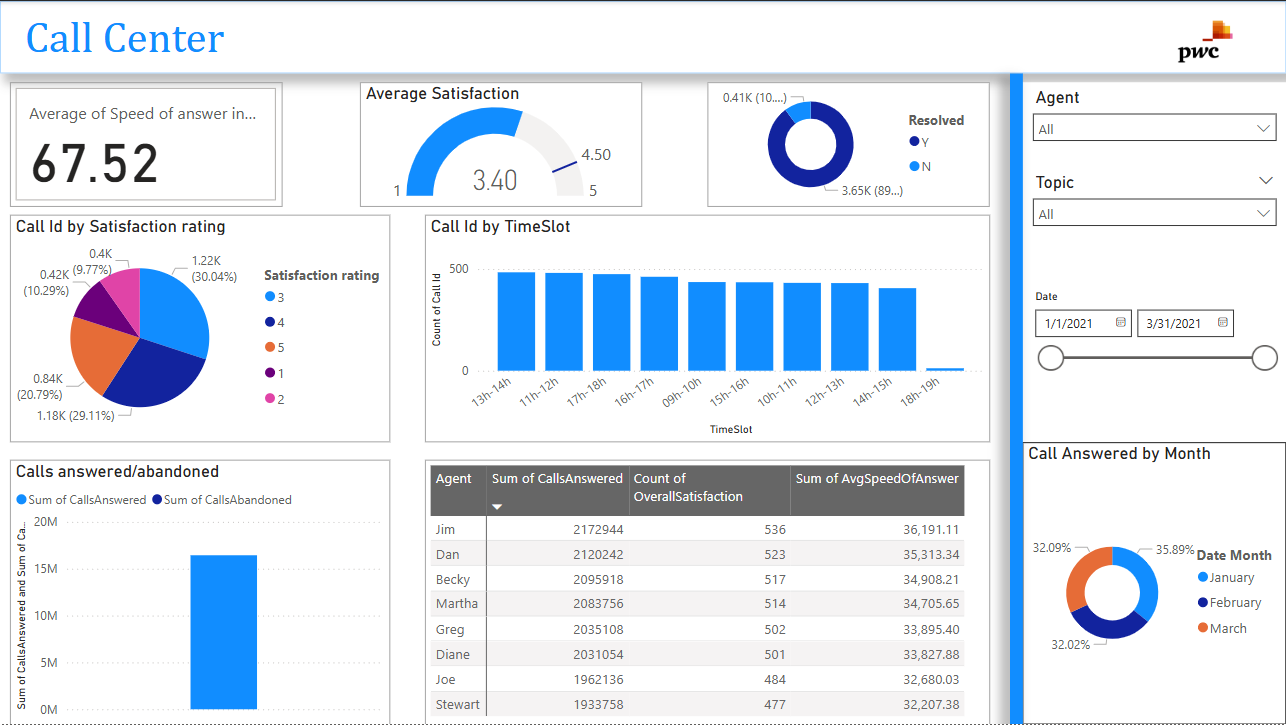

What the dashboard file says about the page in this screenshot:
{"tool":"powerbi","page":{"name":"Page 1","canvas":[1280,720],"ordinal":0},"visuals":[{"type":"pieChart","title":"Call Id by Satisfaction rating","fields":{"Category":["1 Call-center-dataset.Satisfaction rating"],"Y":["1 Call-center-dataset.Call Id"]},"box":[10,212.7,378.2,226.4],"z":0},{"type":"textbox","box":[0,0,1280,72.1],"z":1000},{"type":"donutChart","fields":{"Category":["Call-center.Resolved"],"Y":["Call-center.Resolved"]},"box":[704.1,80.9,281.1,124.4],"z":2000},{"type":"columnChart","title":"Calls answered/abandoned","fields":{"Y":["Call-center.CallsAnswered","Call-center.CallsAbandoned"]},"box":[10,456.5,378.2,263.7],"z":3000},{"type":"columnChart","title":"Call Id by TimeSlot","fields":{"Y":["Call-center.Call Id"],"Category":["Call-center.TimeSlot"]},"box":[422.9,212.7,562.3,226.4],"z":4000},{"type":"cardVisual","fields":{"Data":["Call-center.Speed of answer in seconds"]},"box":[10,80.9,271.2,124.4],"z":5000},{"type":"slicer","fields":{"Values":["Call-center.Agent"]},"box":[1017.6,80.9,262.5,85.8],"z":6000},{"type":"slicer","fields":{"Values":["Call-center.Topic"]},"box":[1017.6,165.4,262.5,94.5],"z":7000},{"type":"pivotTable","fields":{"Values":["Call-center.CallsAnswered","Call-center.OverallSatisfaction","Call-center.AvgSpeedOfAnswer"],"Rows":["Call-center.Agent"]},"box":[422.9,456.5,562.3,263.7],"z":8000},{"type":"gauge","title":"Average Satisfaction","fields":{"Y":["Call-center.OverallSatisfaction"],"MinValue":["Call-center.Satisfaction rating"],"MaxValue":["Sum(Call-center.Satisfaction rating)1"],"TargetValue":["Call-center.Target Value Satisfaction"]},"box":[358.3,80.9,281.1,124.4],"z":9000},{"type":"slicer","fields":{"Values":["Call-center.Date"]},"box":[1017.6,282.4,262.5,112],"z":10000},{"type":"image","box":[1118.3,0,161.7,80.9],"z":11000},{"type":"donutChart","title":"Call Answered  by Month","fields":{"Y":["Call-center.Answered (Y/N)"],"Category":["Call-center.Date.Variation.Date Hierarchy.Month"]},"box":[1017.6,439.1,262.5,281.1],"z":12000},{"type":"textbox","box":[1005.1,72.1,12.4,648.1],"z":13000}]}

Visuals, with their boxes in screenshot pixels (x1, y1, x2, y2), scaled from the page's 1280x720 canvas onto the 1286x725 screenshot:
"Call Id by Satisfaction rating" pieChart: l=10, t=214, r=390, b=442
textbox: l=0, t=0, r=1285, b=73
donutChart - Call-center.Resolved x Call-center.Resolved: l=707, t=81, r=990, b=207
"Calls answered/abandoned" columnChart: l=10, t=460, r=390, b=724
"Call Id by TimeSlot" columnChart: l=425, t=214, r=990, b=442
cardVisual - Call-center.Speed of answer in seconds: l=10, t=81, r=283, b=207
slicer - Call-center.Agent: l=1022, t=81, r=1285, b=168
slicer - Call-center.Topic: l=1022, t=167, r=1285, b=262
pivotTable - Call-center.CallsAnswered x Call-center.OverallSatisfaction: l=425, t=460, r=990, b=724
"Average Satisfaction" gauge: l=360, t=81, r=642, b=207
slicer - Call-center.Date: l=1022, t=284, r=1285, b=397
image: l=1124, t=0, r=1285, b=81
"Call Answered  by Month" donutChart: l=1022, t=442, r=1285, b=724
textbox: l=1010, t=73, r=1022, b=724
